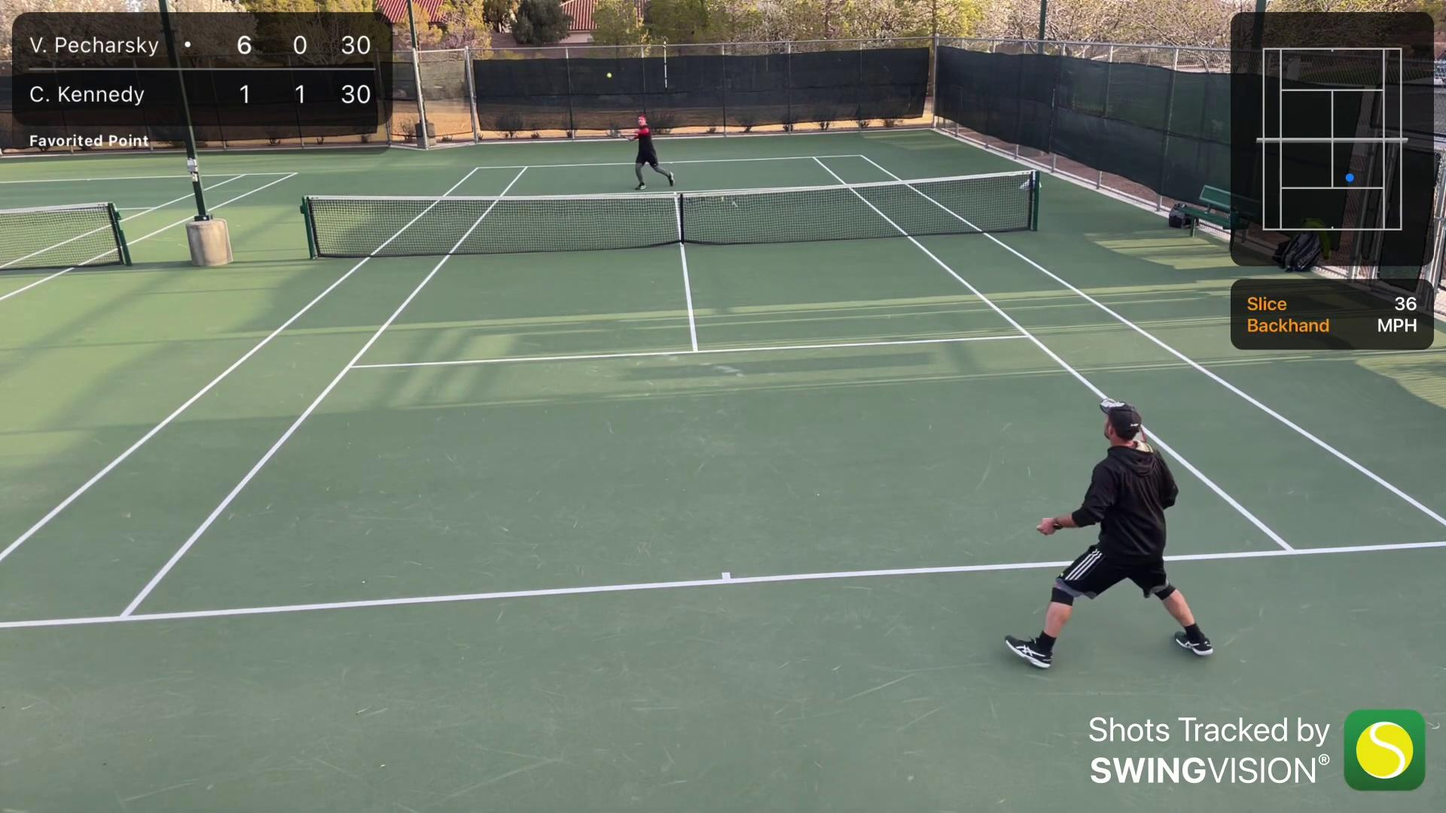ball: (604, 72, 613, 79)
